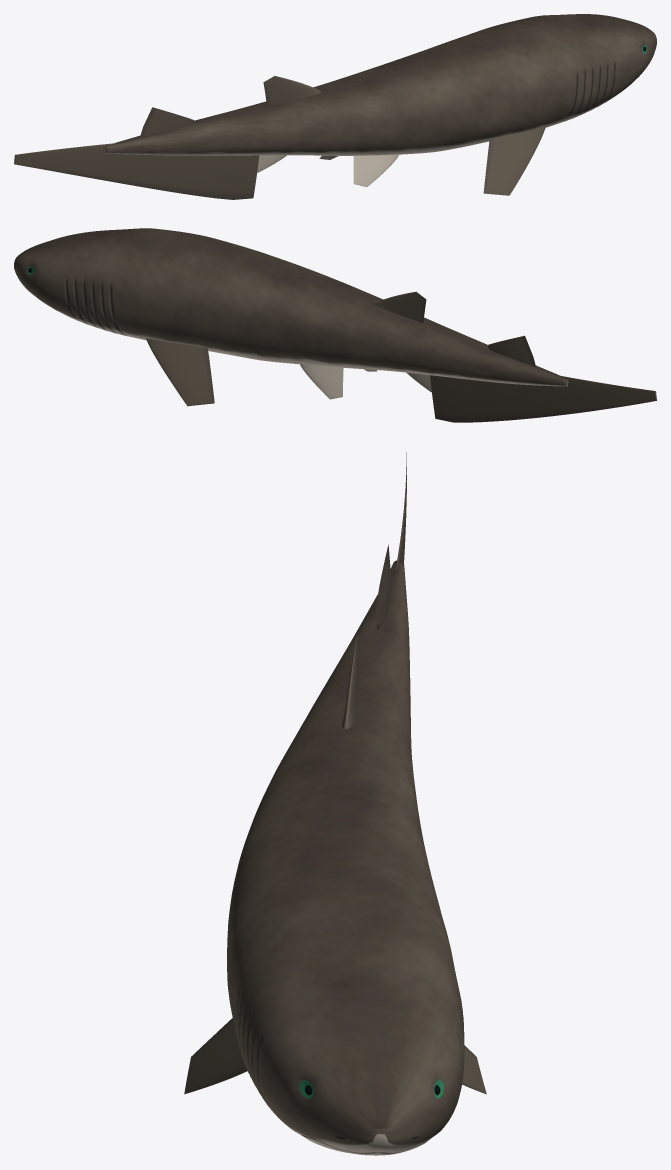
Rendered from bluntnose_sixgill_shark.glb.
3 views of the same model, one above another, from view 1: azimuth 30°, elevation 25°; view 2: azimuth 150°, elevation 25°; view 3: azimuth 270°, elevation 25° (orthographic). The views are drawn at different scales.
Visible parts, largest first — view 1: BluntnoseSixgillShark_Body, BluntnoseSixgillShark_Fins; view 2: BluntnoseSixgillShark_Body, BluntnoseSixgillShark_Fins; view 3: BluntnoseSixgillShark_Body, BluntnoseSixgillShark_Fins.
Boxes of the visible parts, box(x1,y1,x2,y2) form: BluntnoseSixgillShark_Body: box(105, 14, 656, 155); BluntnoseSixgillShark_Fins: box(14, 76, 545, 199); BluntnoseSixgillShark_Body: box(14, 228, 568, 386); BluntnoseSixgillShark_Fins: box(146, 291, 656, 422); BluntnoseSixgillShark_Body: box(227, 560, 464, 1155); BluntnoseSixgillShark_Fins: box(184, 452, 486, 1094).
Size of the model in its own units: 3.5 by 0.7126 by 0.723.
3 materials, 1 textured.
